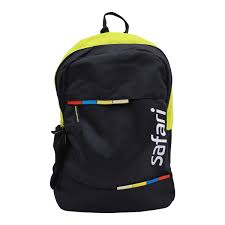backpack: (49, 11, 175, 213)
